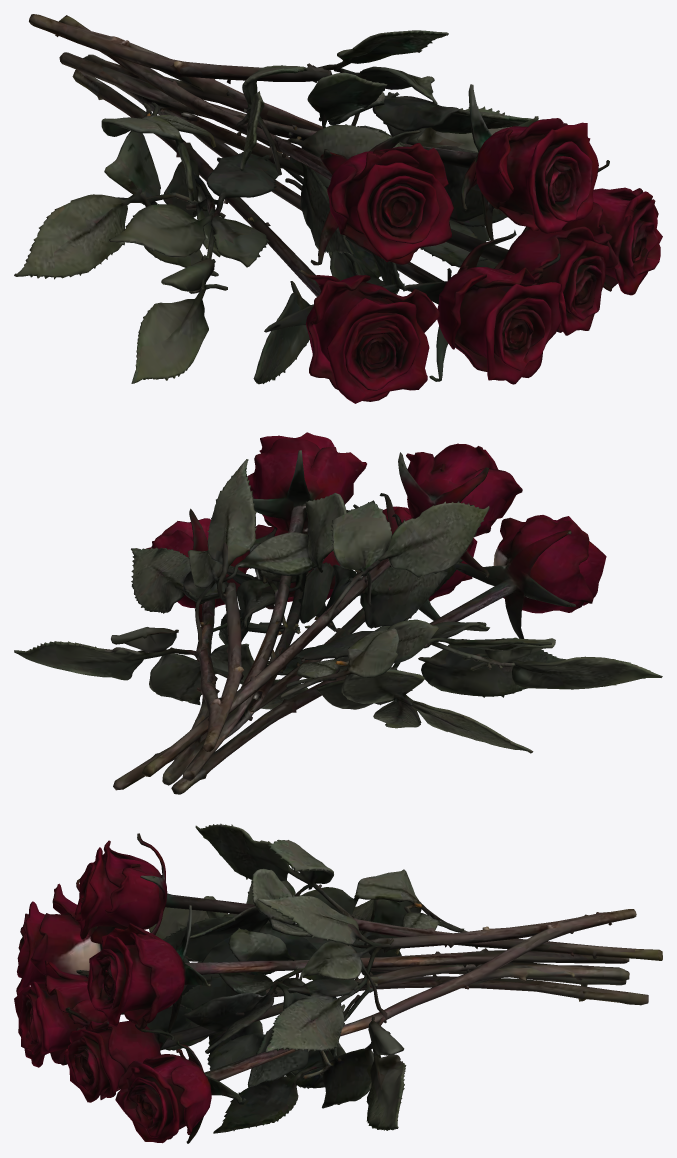
Rendered from flowers.glb.
3 renders of one model, top to bottom at view 1: azimuth 30°, elevation 25°; view 2: azimuth 150°, elevation 25°; view 3: azimuth 270°, elevation 25°, orthographic. The views are drawn at different scales.
Visible parts, largest first — view 1: tripo_node_68309f3e-fc90-4747-a40c-438df61a5f89; view 2: tripo_node_68309f3e-fc90-4747-a40c-438df61a5f89; view 3: tripo_node_68309f3e-fc90-4747-a40c-438df61a5f89.
Boxes of the visible parts, left/top/right/bottom form: tripo_node_68309f3e-fc90-4747-a40c-438df61a5f89: left=14, top=14, right=662, bottom=403; tripo_node_68309f3e-fc90-4747-a40c-438df61a5f89: left=14, top=432, right=662, bottom=794; tripo_node_68309f3e-fc90-4747-a40c-438df61a5f89: left=14, top=823, right=662, bottom=1143.
Size of the model in its own units: 0.8043 by 0.352 by 0.9784.
1 material, 1 textured.
